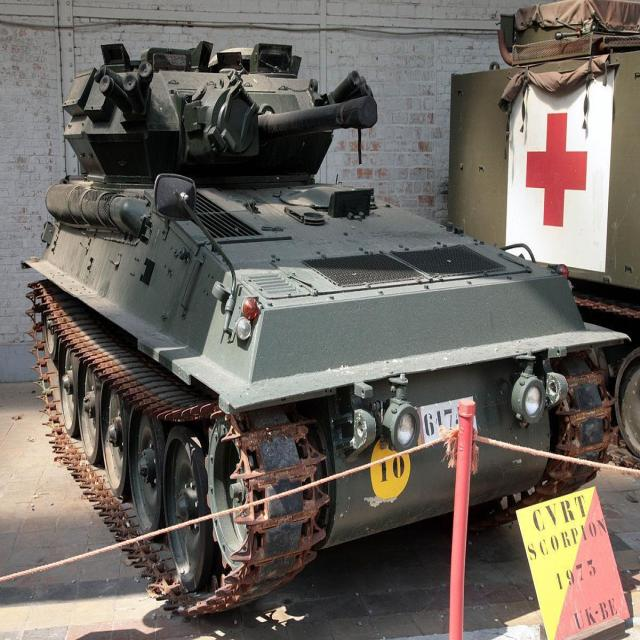Tanks: (22, 24, 620, 584)
